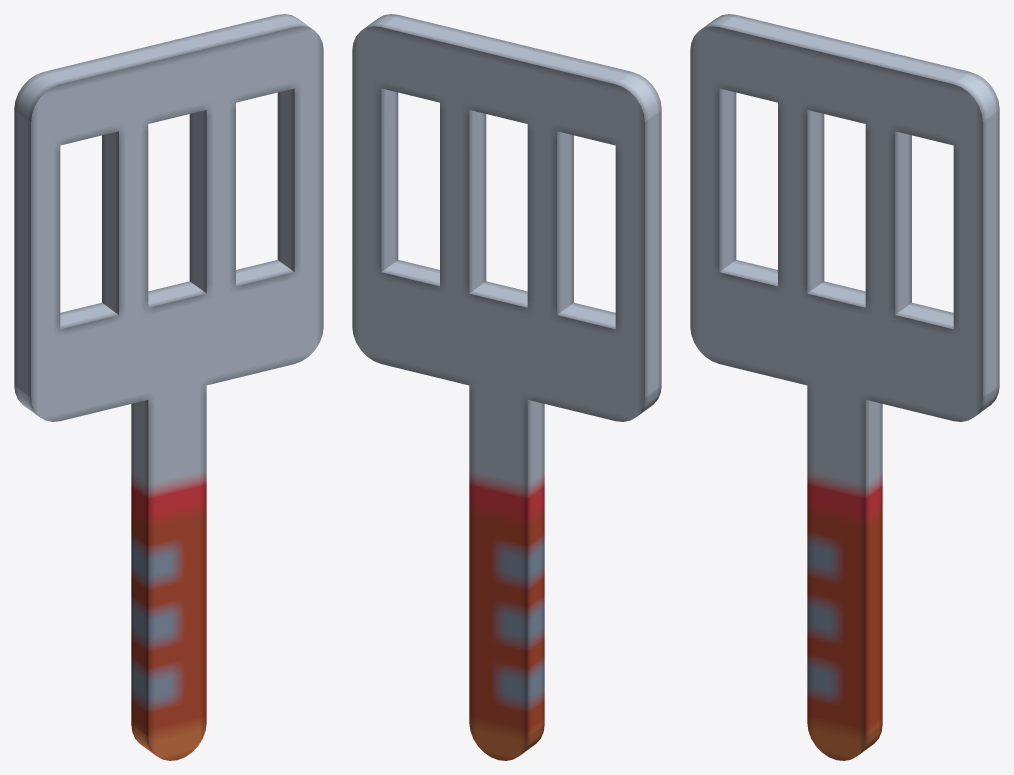
Rendered from espatula.fbx.
The picture shows the model from 3 angles, left to right: view 1: azimuth 30°, elevation 25°; view 2: azimuth 150°, elevation 25°; view 3: azimuth 330°, elevation 25°; orthographic projection.
Visible parts, largest first — view 1: generated; view 2: generated; view 3: generated.
Part boxes in pixels (x1=…): generated: x1=14, y1=14, x2=323, y2=760; generated: x1=352, y1=14, x2=661, y2=760; generated: x1=690, y1=14, x2=999, y2=760.
Bounding box in the file's own units: 10 × 23 × 1.
